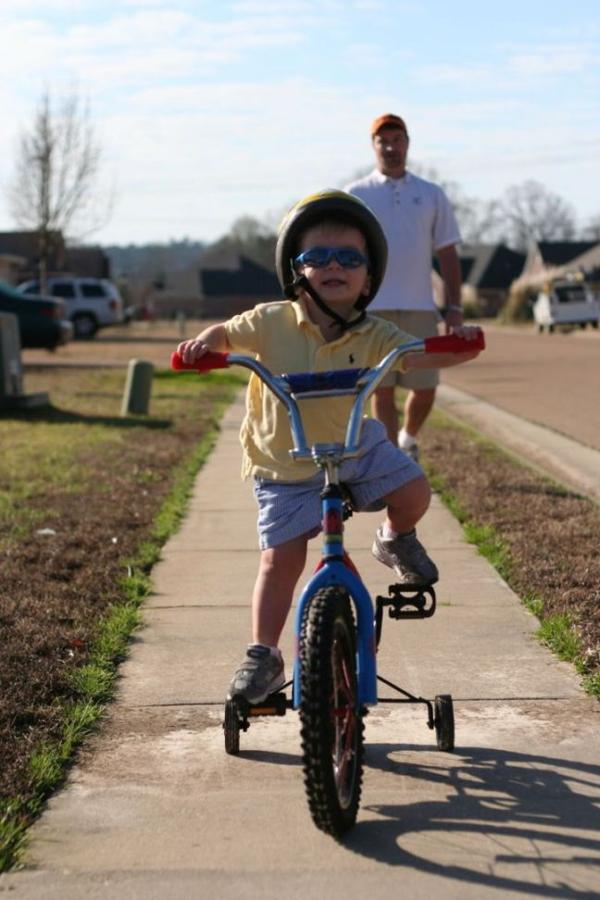person: (175, 189, 482, 709)
